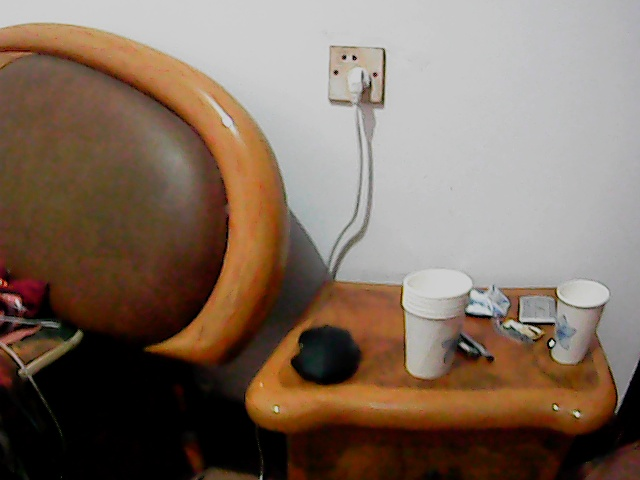cup: (401, 268, 472, 378)
mouse: (293, 321, 362, 387)
